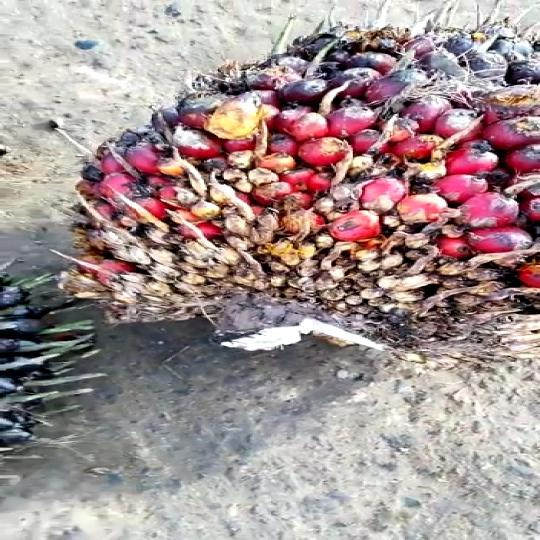masak: (6, 0, 538, 364)
